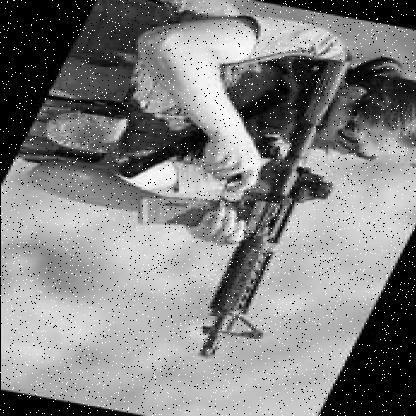rifle: (75, 36, 387, 370)
